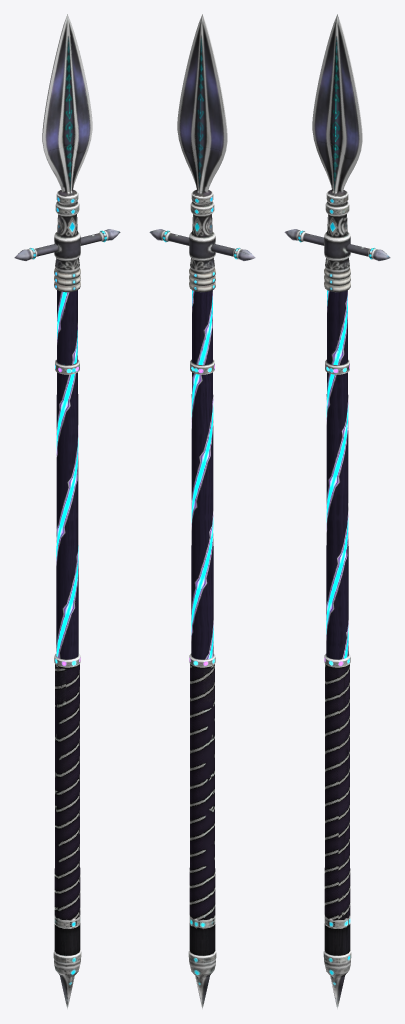
File: w_spear_t4.glb
The picture shows the model from 3 angles, left to right: view 1: azimuth 30°, elevation 25°; view 2: azimuth 150°, elevation 25°; view 3: azimuth 330°, elevation 25°; orthographic projection.
Visible parts, largest first — view 1: w_spear; view 2: w_spear; view 3: w_spear.
Boxes of the visible parts, bbox=[...] form: w_spear: bbox=[14, 14, 120, 1009]; w_spear: bbox=[149, 14, 255, 1009]; w_spear: bbox=[284, 14, 390, 1009].
Size of the model in its own units: 13.2 by 118 by 2.96.
Materials: 1 (1 with a texture image).
